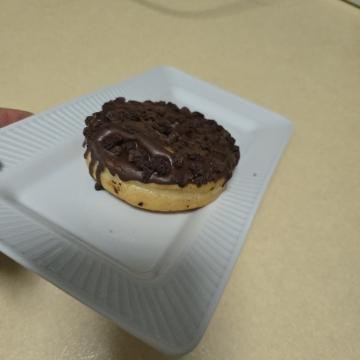doughnut: (81, 116, 228, 295)
